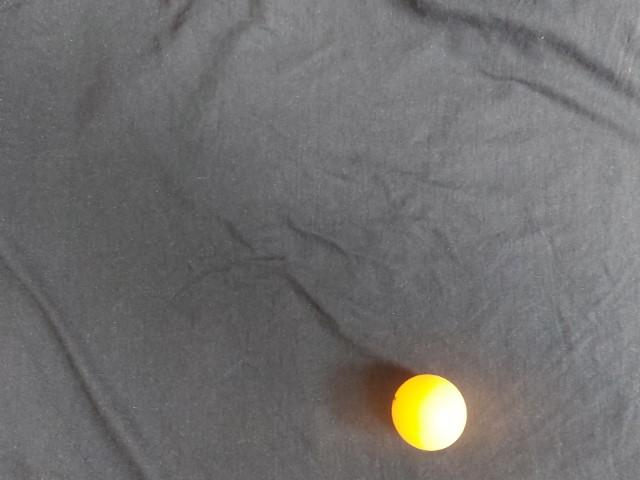oball: (166, 26, 254, 111)
